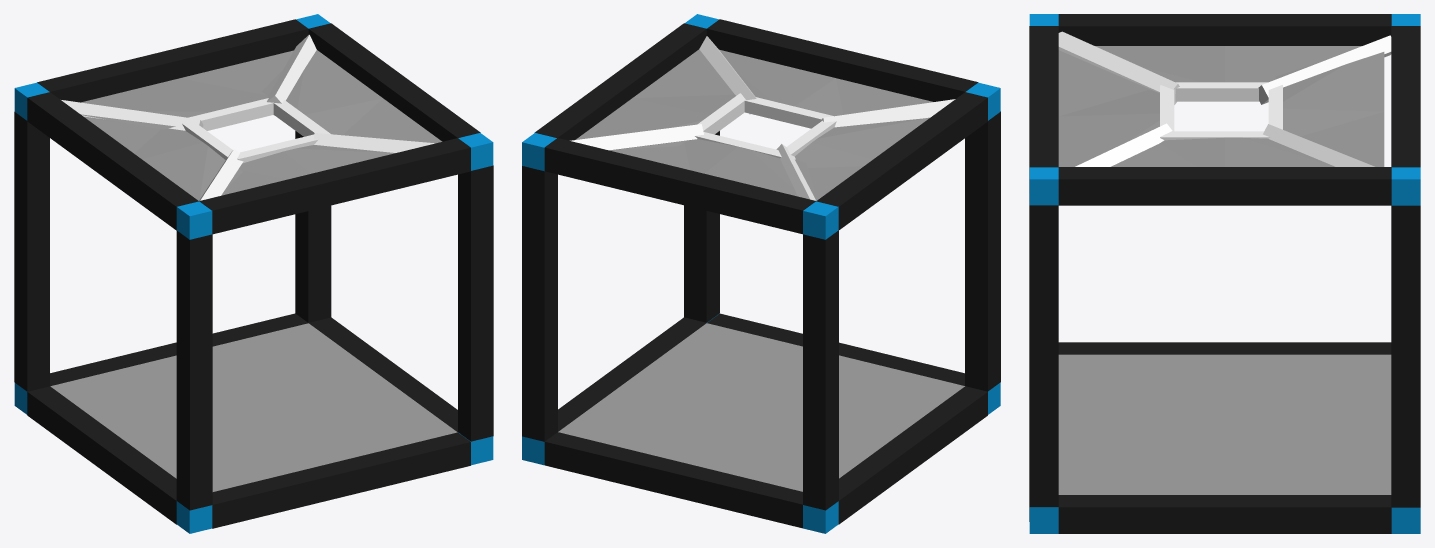
The model's file is Hatch.obj.
3 views of the same model, side by side, from view 1: azimuth 30°, elevation 25°; view 2: azimuth 150°, elevation 25°; view 3: azimuth 270°, elevation 25° (orthographic). The views are drawn at different scales.
Visible parts, largest first — view 1: group1070944959, group1556195603, group709435993, group1226622267, group2054616965, group966415300, group583785649, group1138974461, group684207257, group629484566, group2038293478, group538804669 (+18 smaller); view 2: group1070944959, group966415300, group62390541, group583785649, group1853298346, group1556195603, group1226622267, group1138974461, group684207257, group629484566, group1243004513, group538804669 (+18 smaller); view 3: group1070944959, group227590905, group538804669, group1138974461, group709435993, group62390541, group2038293478, group1243004513, group467392027, group629484566, group684207257, group1226622267 (+13 smaller).
Part boxes in pixels (x1,y1,x2,y2): group1070944959: [50, 323, 457, 491]; group1556195603: [176, 230, 212, 510]; group709435993: [458, 165, 493, 441]; group1226622267: [199, 138, 470, 234]; group2054616965: [212, 432, 470, 528]; group966415300: [14, 111, 49, 391]; group583785649: [37, 19, 308, 102]; group1138974461: [27, 92, 198, 230]; group684207257: [27, 386, 176, 524]; group629484566: [262, 50, 442, 143]; group2038293478: [81, 50, 293, 129]; group538804669: [308, 23, 480, 141]; group1070944959: [558, 323, 964, 491]; group966415300: [803, 230, 838, 510]; group62390541: [522, 166, 557, 441]; group583785649: [544, 138, 815, 234]; group1853298346: [544, 432, 802, 528]; group1556195603: [965, 111, 1000, 391]; group1226622267: [706, 19, 978, 101]; group1138974461: [816, 92, 987, 229]; group684207257: [838, 386, 987, 524]; group629484566: [575, 49, 735, 149]; group1243004513: [719, 49, 933, 116]; group538804669: [534, 23, 706, 140]; group1070944959: [1058, 354, 1391, 494]; group227590905: [1058, 495, 1391, 533]; group538804669: [1058, 167, 1391, 205]; group1138974461: [1058, 14, 1391, 45]; group709435993: [1029, 193, 1058, 507]; group62390541: [1391, 205, 1420, 507]; group2038293478: [1275, 52, 1384, 166]; group1243004513: [1058, 50, 1159, 166]; group467392027: [1095, 46, 1361, 90]; group629484566: [1111, 137, 1334, 166]; group684207257: [1058, 342, 1391, 354]; group1226622267: [1029, 26, 1058, 192].
Size of the model in its own units: 0.5409 by 0.5413 by 0.5404.
